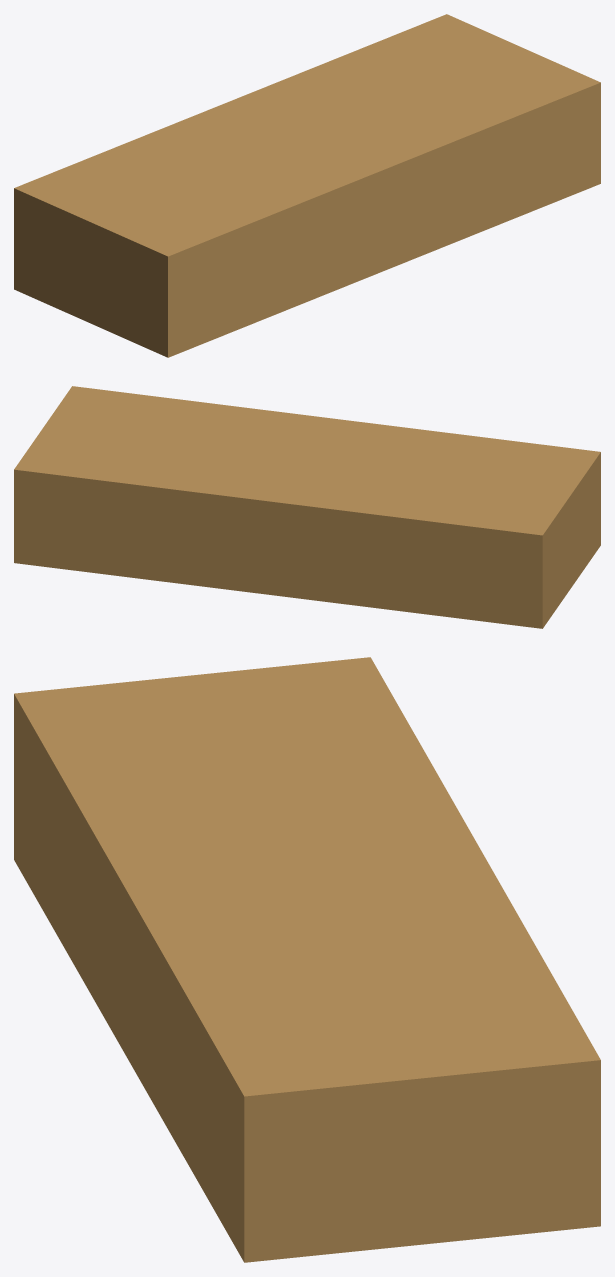
3 views of the same model, one above another, from view 1: azimuth 30°, elevation 25°; view 2: azimuth 150°, elevation 25°; view 3: azimuth 270°, elevation 25° (orthographic). The views are drawn at different scales.
Parts seen in each view (by area): view 1: RUN-018-S01-NOG-00; view 2: RUN-018-S01-NOG-00; view 3: RUN-018-S01-NOG-00.
Part boxes in pixels (<box>): RUN-018-S01-NOG-00: <box>14,14,600,357</box>; RUN-018-S01-NOG-00: <box>14,386,600,628</box>; RUN-018-S01-NOG-00: <box>14,657,600,1262</box>.
Bounding box in the file's own units: 0.255 × 0.045 × 0.144.
